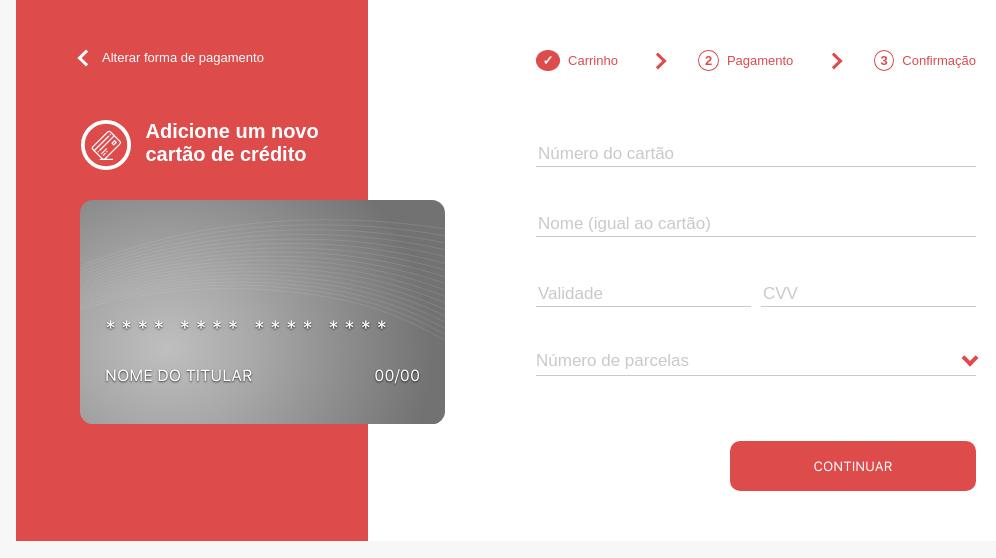
Scenario: Formulário de pagamento › Deve exibir erro quando enviar um CVV inválido
Type "55" into the number field labelled "CVV" at (868, 294), box x1=761 y1=281 x2=976 y2=307
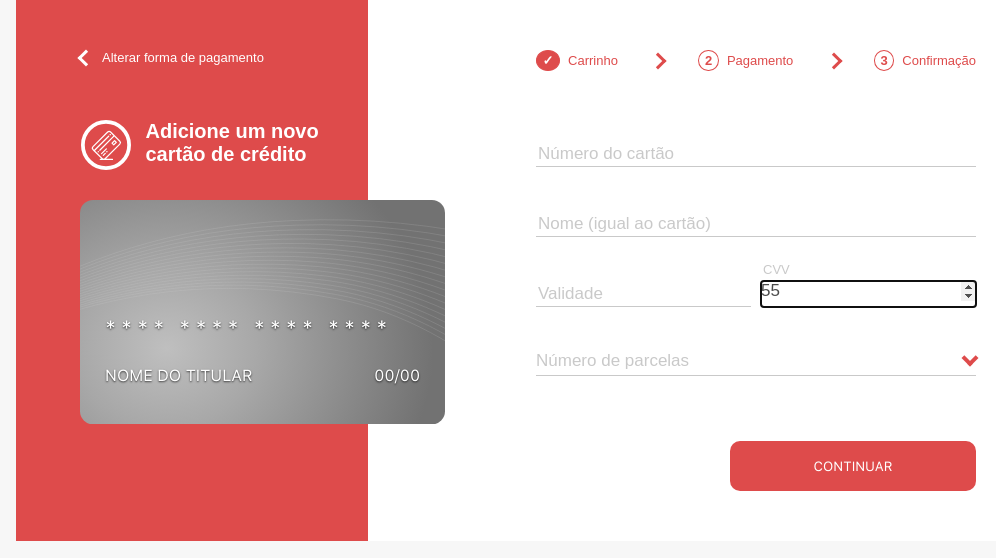
Submit the form with test id "payment-form", box x1=536 y1=141 x2=976 y2=491
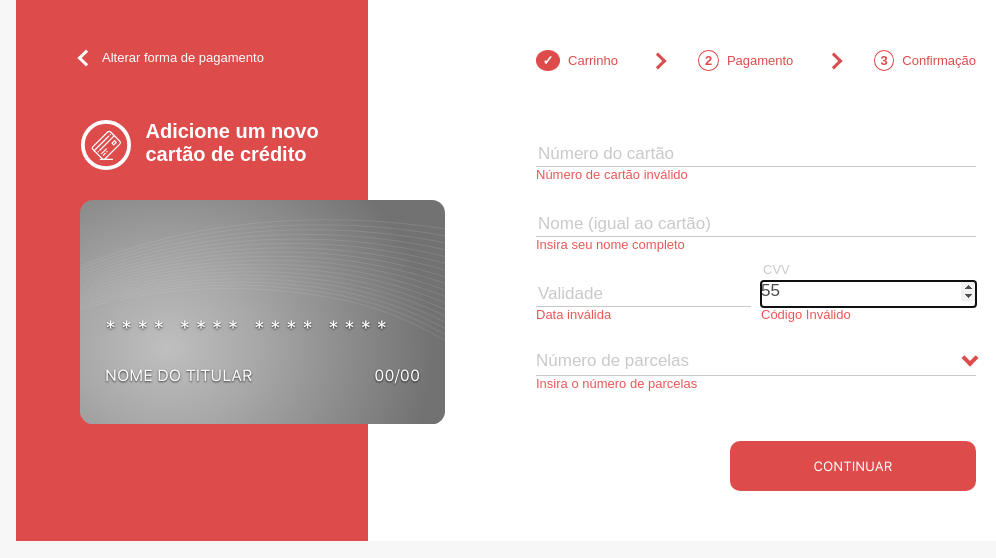
Expected: the text "Código Inválido" is shown, x1=761 y1=307 x2=851 y2=322
